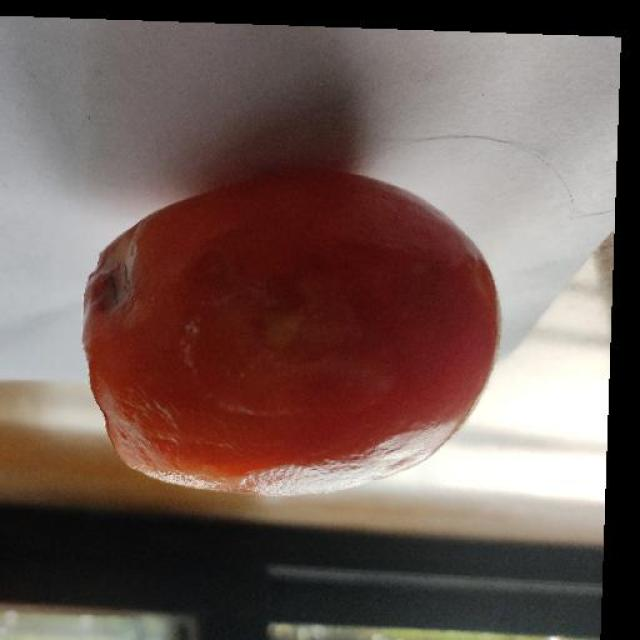Stale_tomato: (84, 167, 512, 503)
